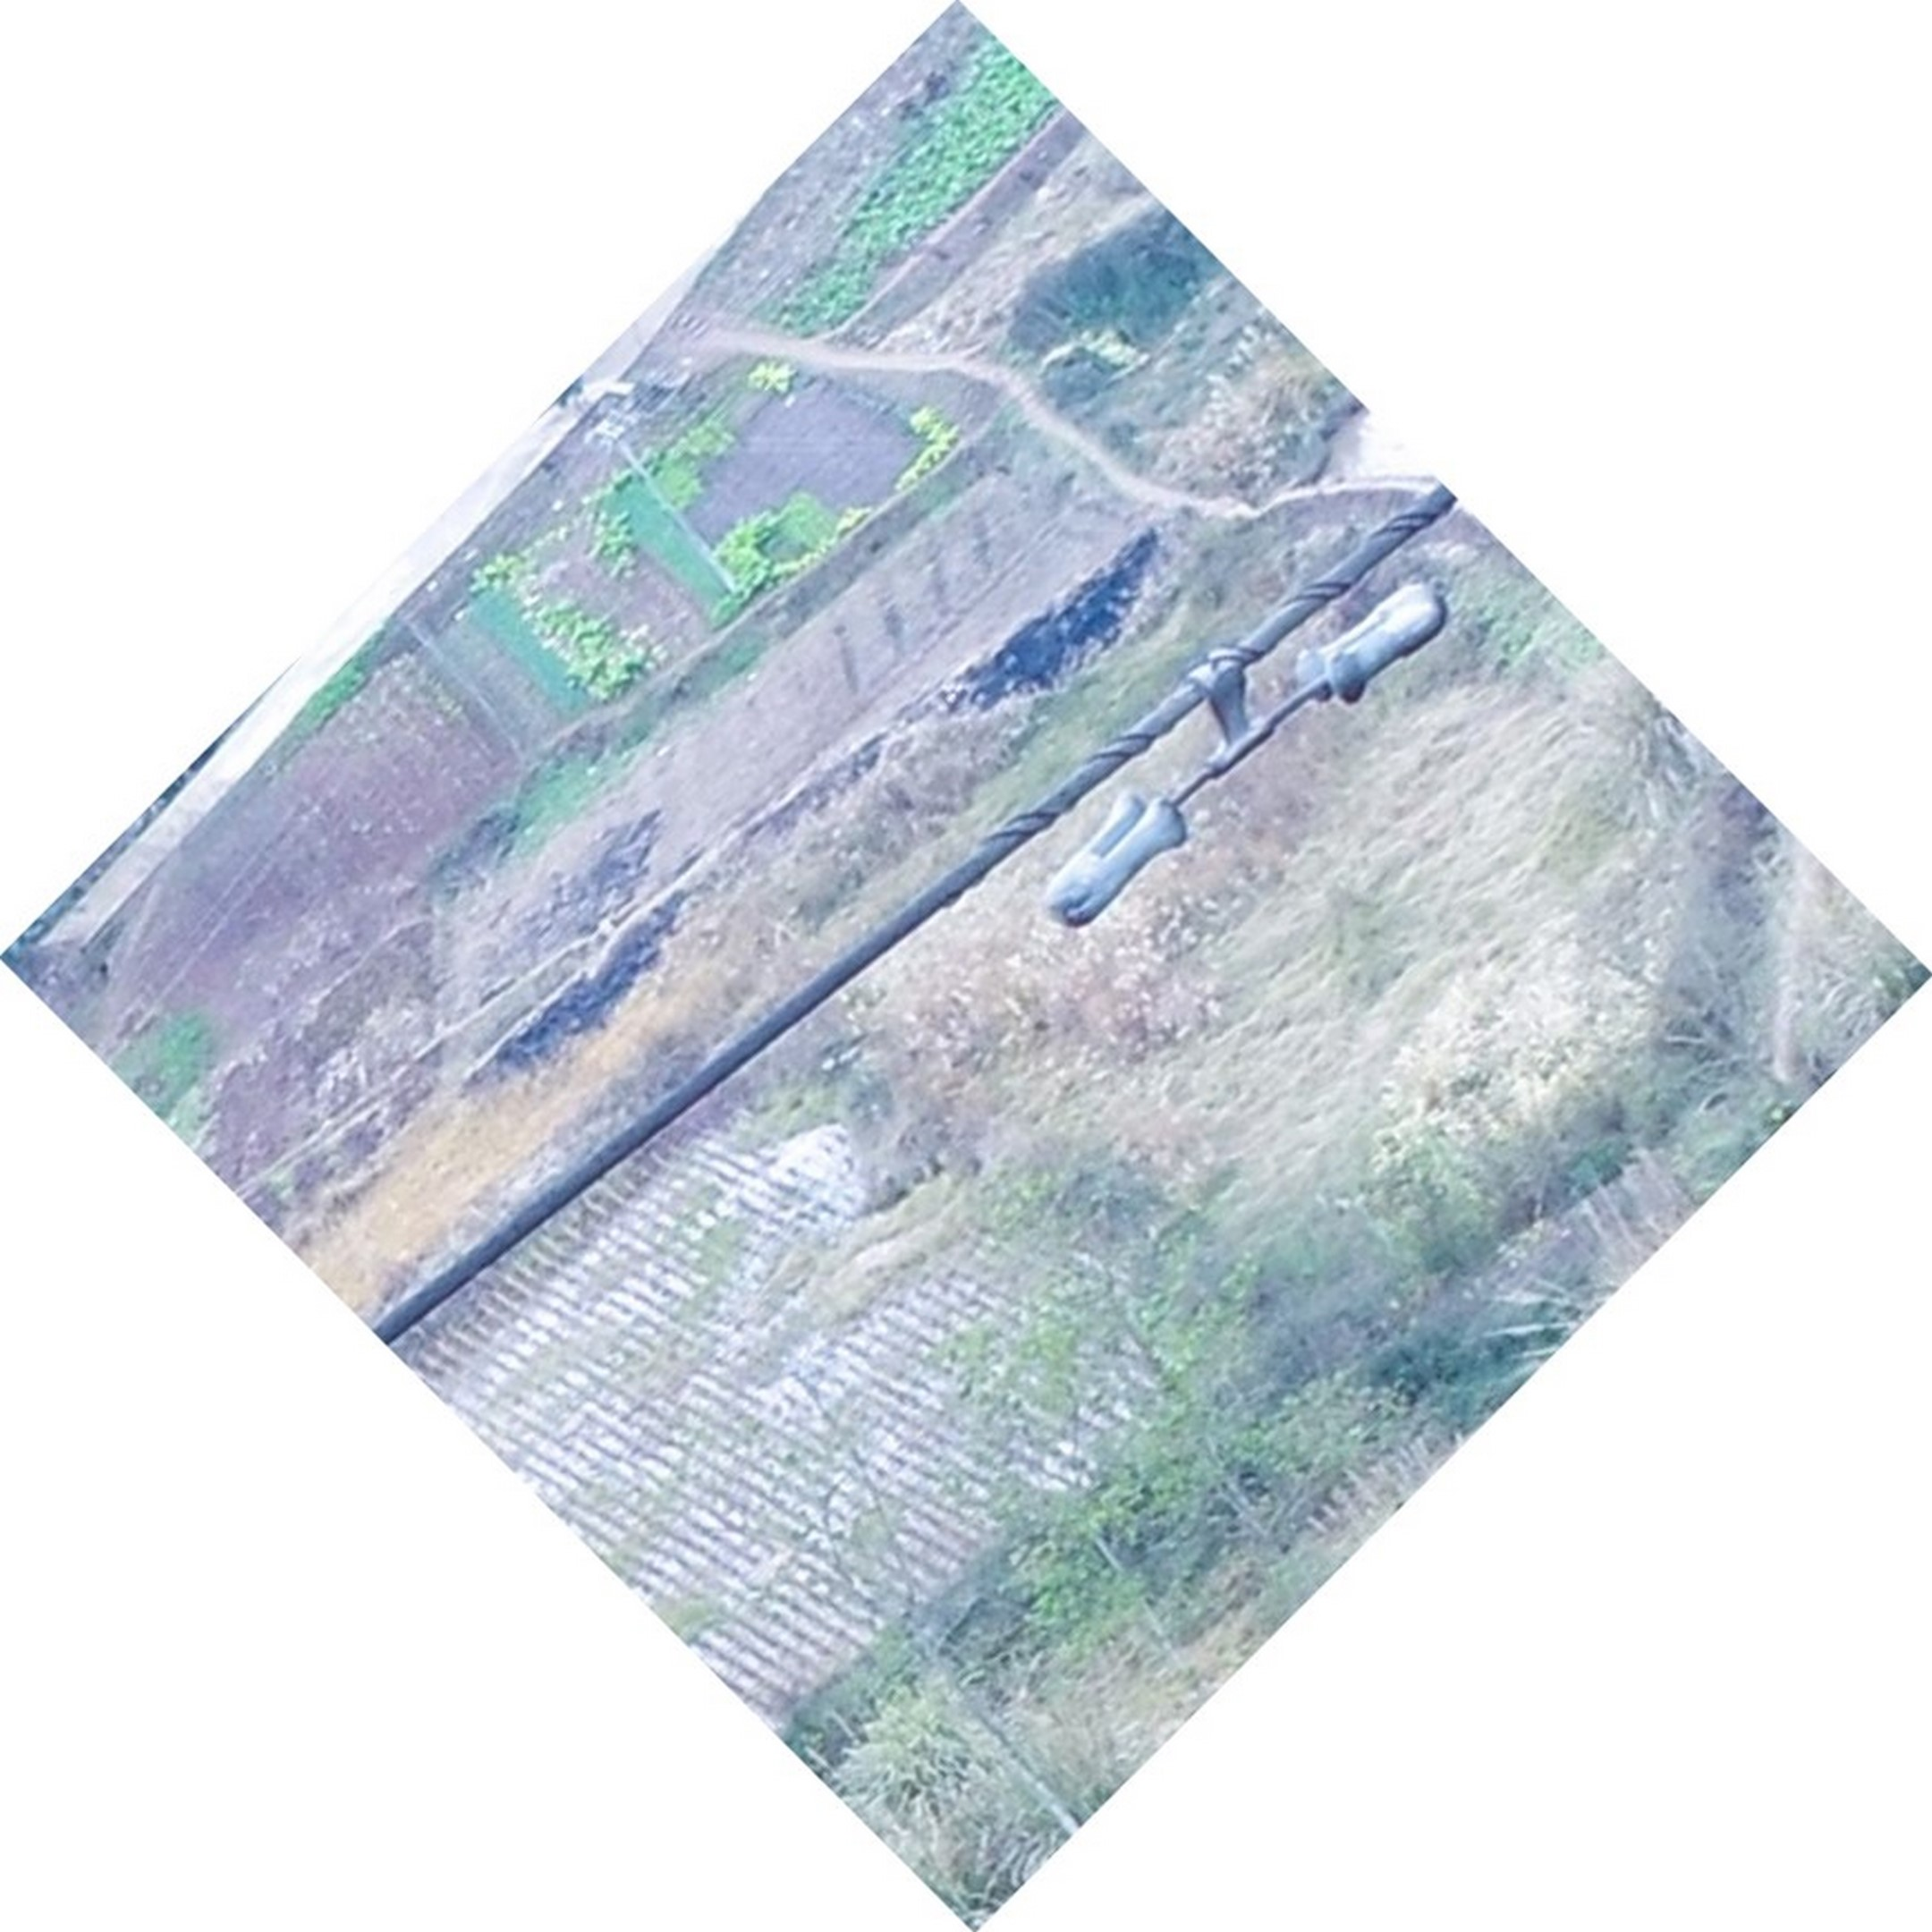Shockproof hammer: (1019, 556, 1491, 941)
